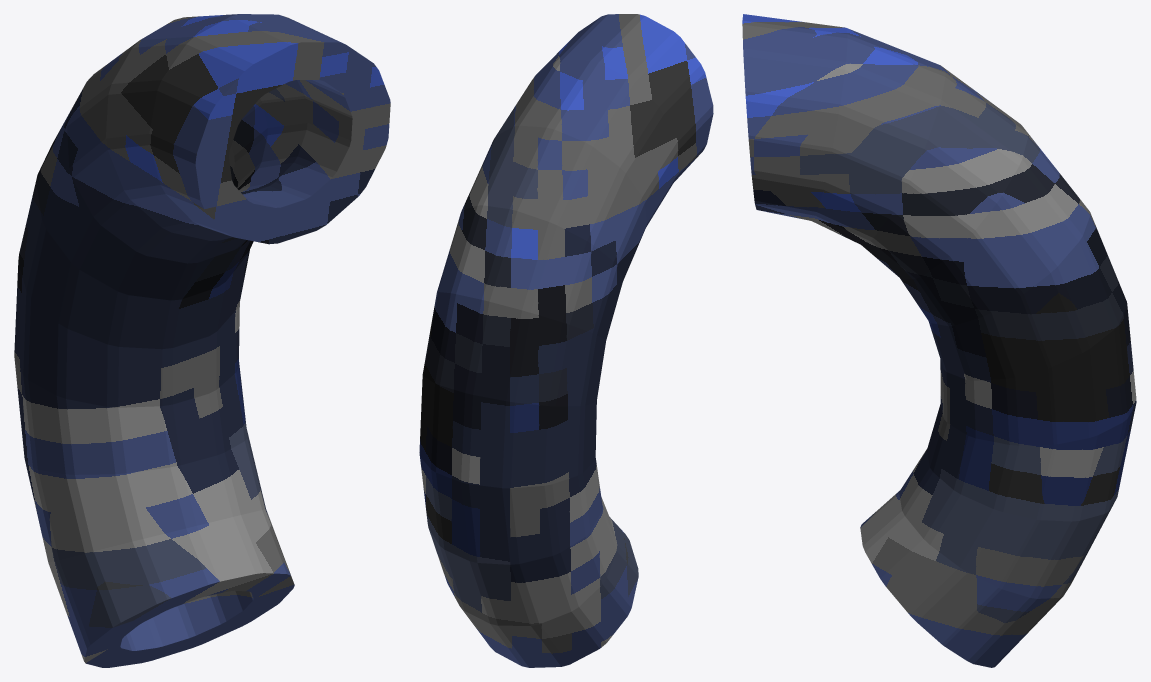
File: SnolfTube2.fbx
3 views of the same model, side by side, from view 1: azimuth 30°, elevation 25°; view 2: azimuth 150°, elevation 25°; view 3: azimuth 270°, elevation 25° (orthographic). The views are drawn at different scales.
Visible parts, largest first — view 1: Cube; view 2: Cube; view 3: Cube.
Part boxes in pixels (bbox=[...]): Cube: bbox=[14, 14, 390, 667]; Cube: bbox=[419, 14, 713, 667]; Cube: bbox=[742, 14, 1136, 667].
Bounding box in the file's own units: 1019 × 3639 × 2056.
